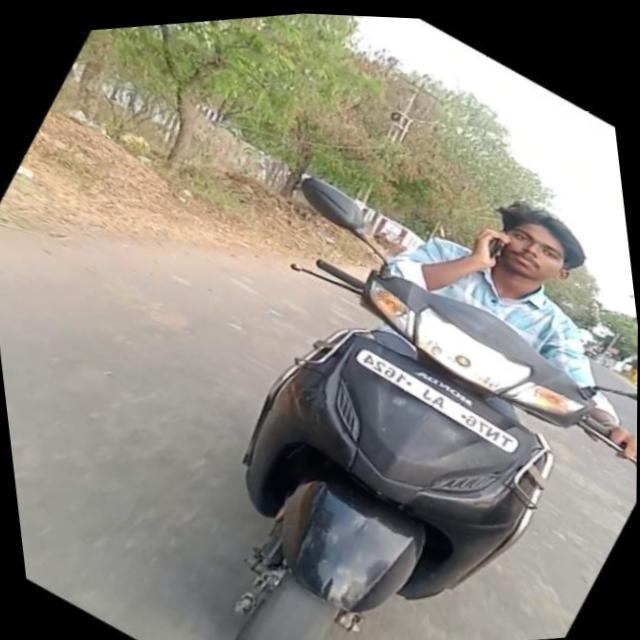USING_MOBILE: (396, 181, 528, 321)
